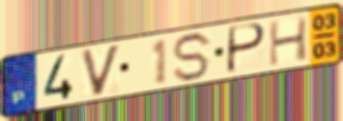1: (151, 36, 168, 88)
4: (41, 52, 76, 103)
H: (267, 14, 310, 69)
P: (224, 22, 268, 76)
S: (171, 30, 215, 84)
V: (78, 42, 124, 99)
